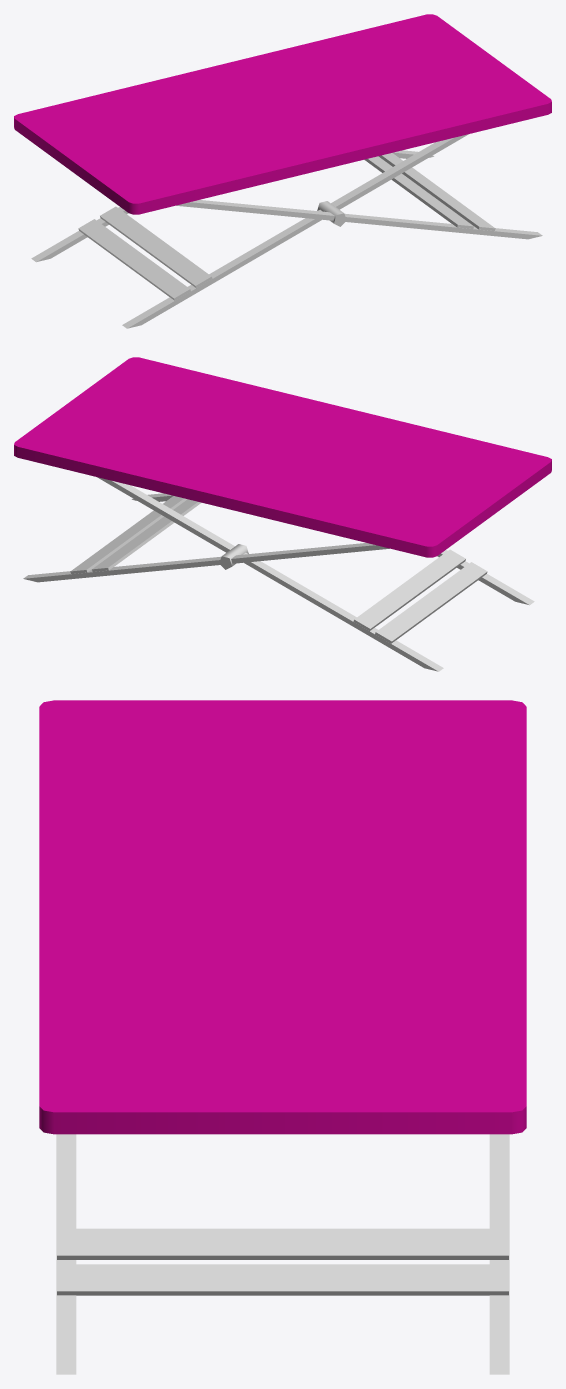
The model's file is Table.fbx.
The picture shows the model from 3 angles, top to bottom: view 1: azimuth 30°, elevation 25°; view 2: azimuth 150°, elevation 25°; view 3: azimuth 270°, elevation 25°; orthographic projection. The views are drawn at different scales.
Parts seen in each view (by area): view 1: tabletop_low, addons_low, tableTop_low; view 2: tabletop_low, addons_low, tableTop_low; view 3: tabletop_low, addons_low, tableTop_low.
Boxes of the visible parts, x1,y1,x2,y2 form: tabletop_low: (14,14,551,214); addons_low: (78,153,495,300); tableTop_low: (31,134,542,328); tabletop_low: (14,357,551,557); addons_low: (70,496,487,643); tableTop_low: (23,477,534,671); tabletop_low: (39,700,526,1134); addons_low: (57,1228,508,1295); tableTop_low: (56,1134,509,1374).
Bounding box in the file's own units: 560 × 171 × 280.
